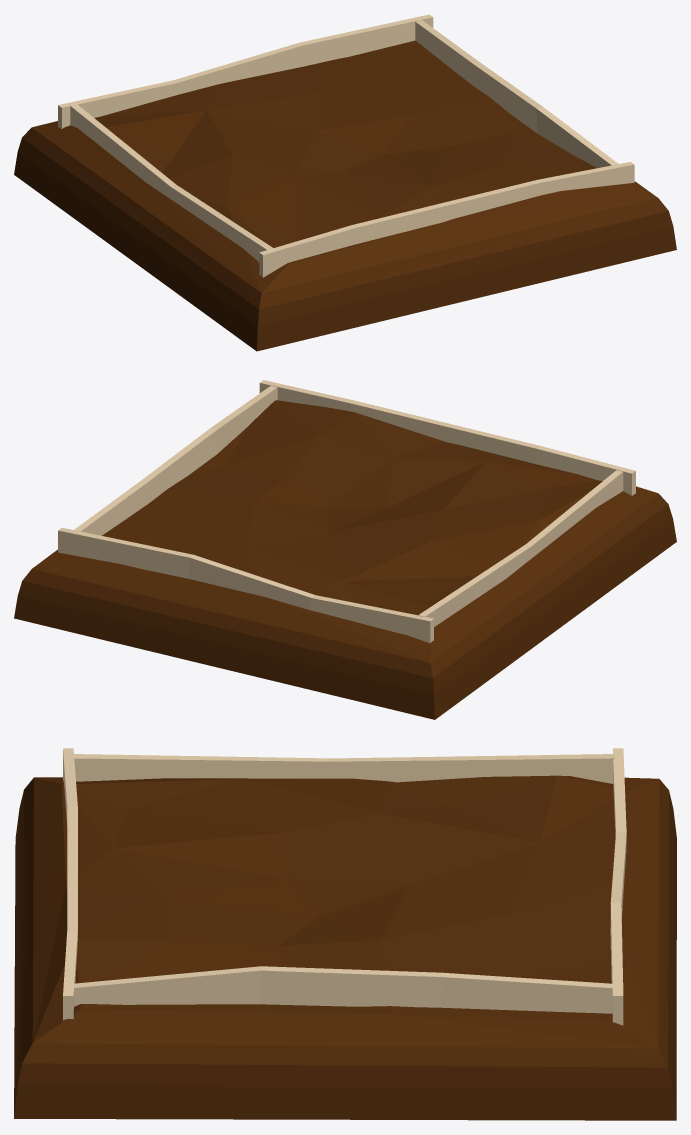
File: Field.fbx
3 renders of one model, top to bottom at view 1: azimuth 30°, elevation 25°; view 2: azimuth 150°, elevation 25°; view 3: azimuth 270°, elevation 25°, orthographic. The views are drawn at different scales.
Parts seen in each view (by area): view 1: Field; view 2: Field; view 3: Field.
Part boxes in pixels (x1,y1,x2,y2): Field: (14,14,676,351); Field: (14,380,676,719); Field: (14,748,676,1120).
Size of the model in its own units: 1300 by 262 by 1301.
